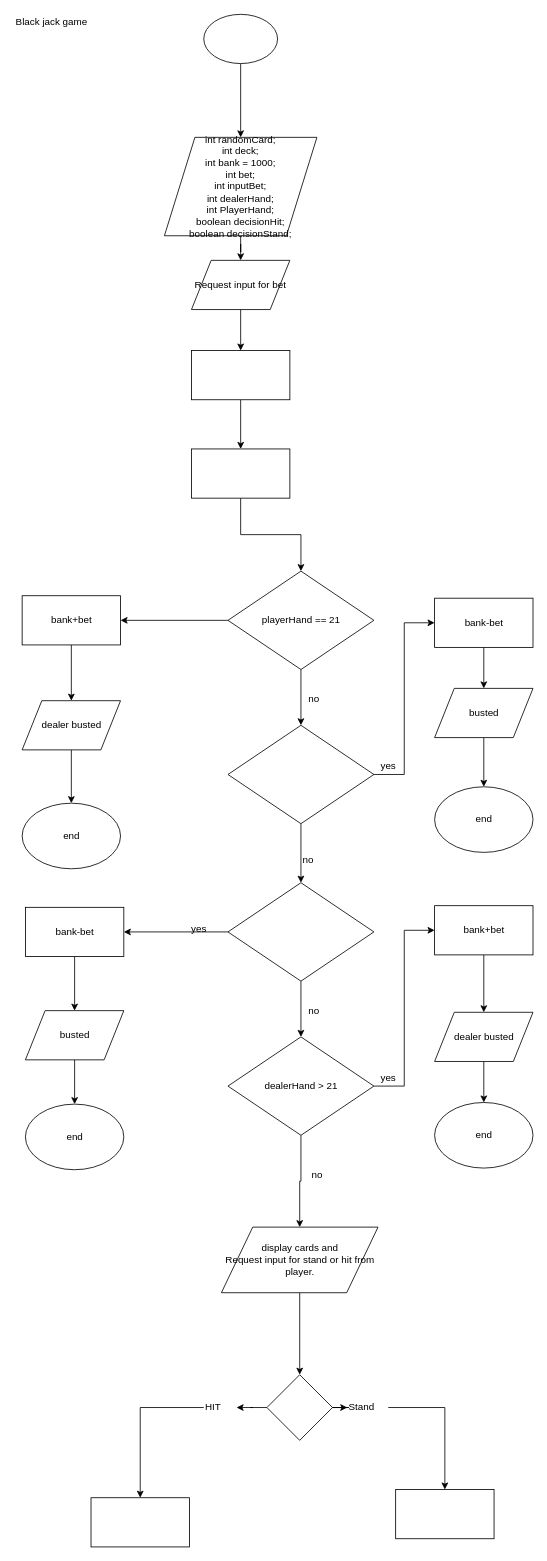
The diagram is 547 pixels wide and 1561 high, and some of its shapes have lost their labels. The centre of each missing label's shape, as x and y in pixels:
deal a card: the point at 139,1522
dealer deals himself: the point at 444,1514
dealerHand = 2; PlayerHand = 2;: the point at 240,473
dealerHand == 21: the point at 300,774
hit or stand: the point at 299,1407
inputBet==bet;: the point at 240,375
playerHand > 21: the point at 300,931
start: the point at 240,39
